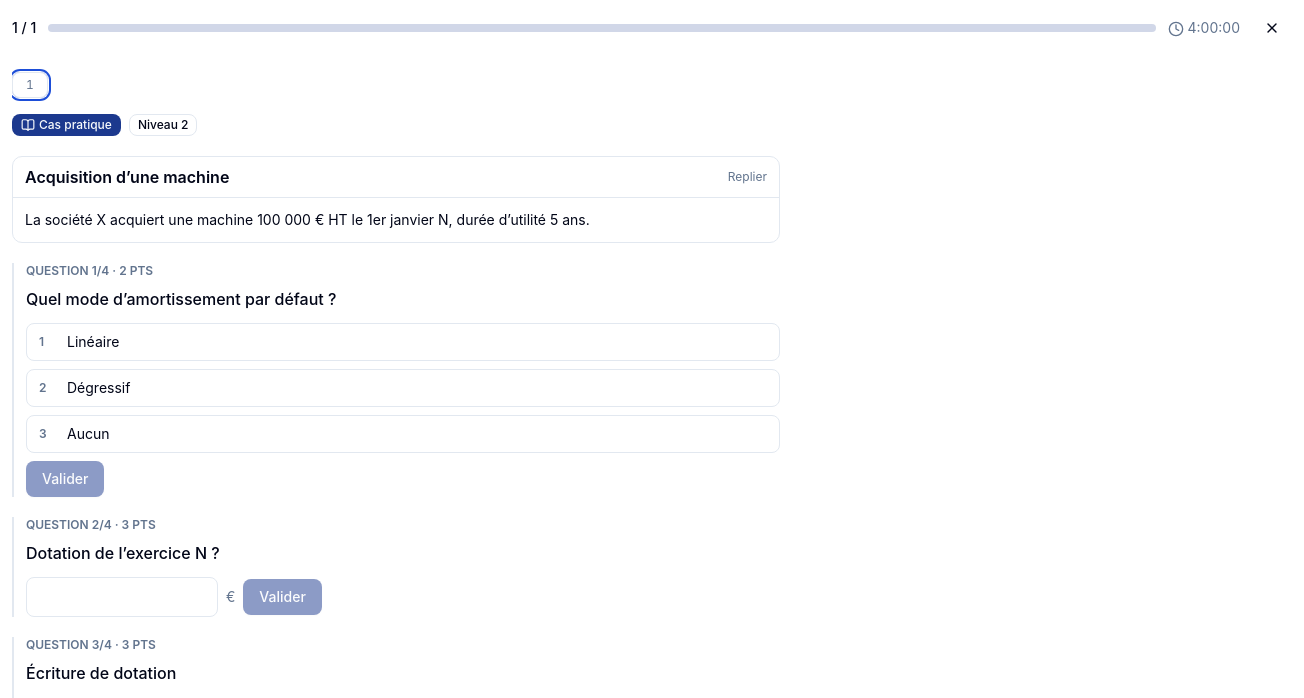
Test case: SessionPage › examen : un cas commencé puis arrêté compte au prorata des questions traitées
expect the text "Question 1/4 · 2 pts" is shown: met, box [26, 263, 153, 278]
Step 1. Click the radio button labelled "1 Linéaire" → (93, 342), box [26, 323, 780, 361]
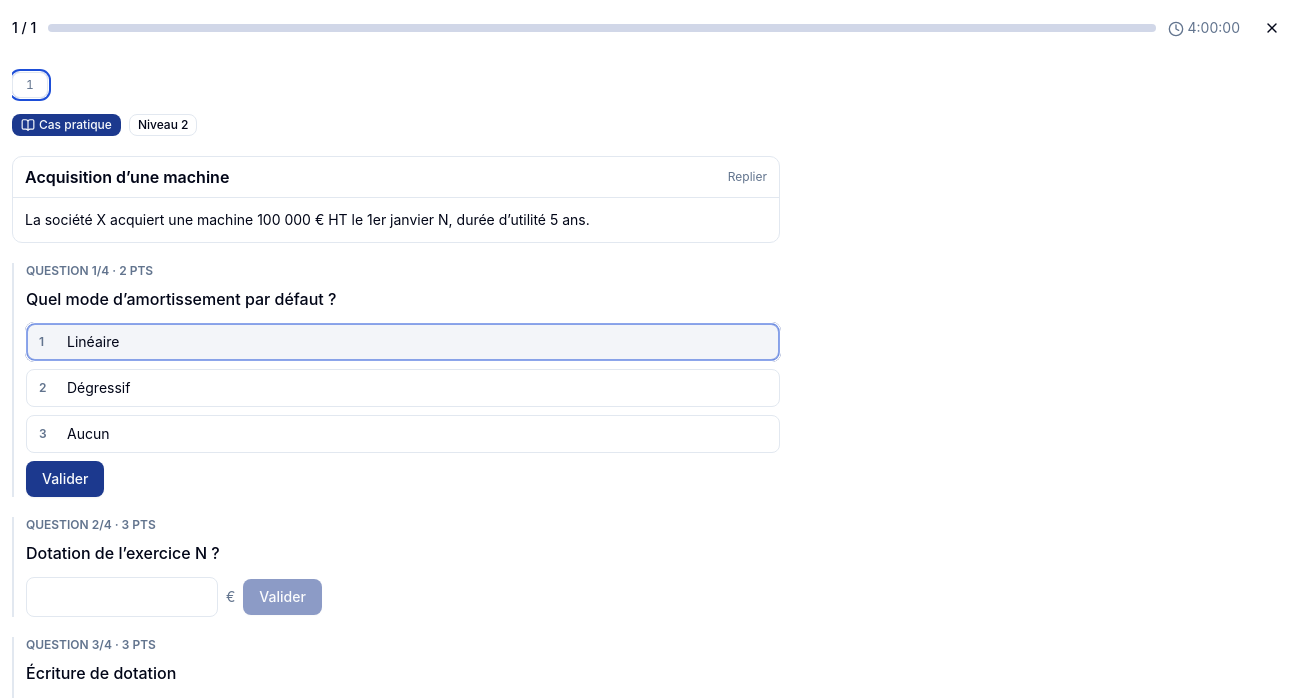
Step 2. Click the button "Valider" below "Quel mode d’amortissement par défaut ?" → (65, 479), box [26, 461, 104, 497]
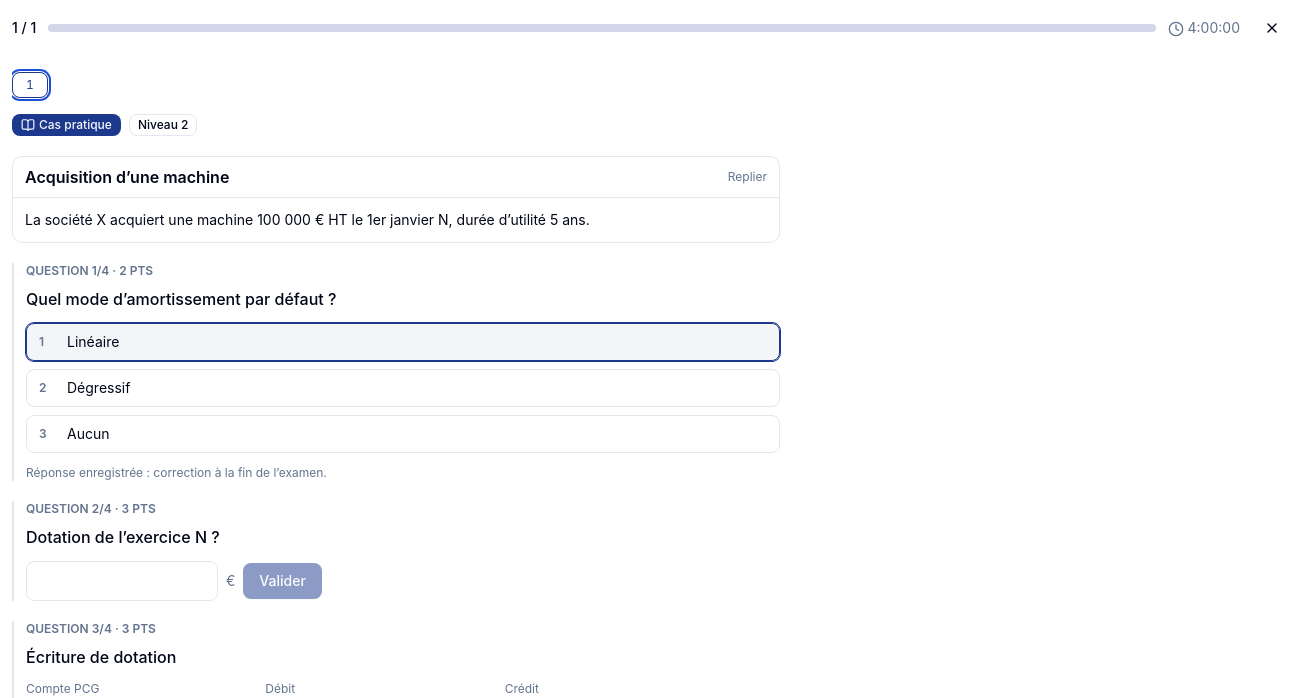
Step 3. Click the button named "Terminer la session" → (1272, 28), box [1252, 8, 1292, 48]
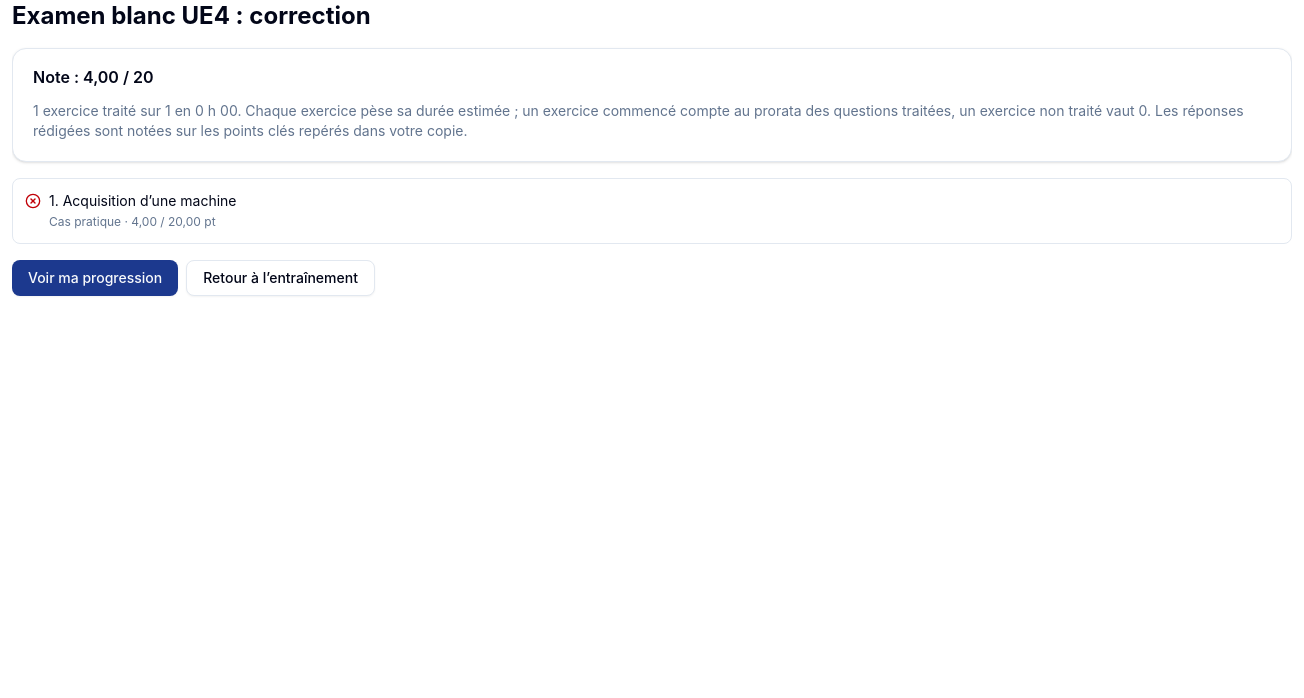
expect the text "1 exercice traité sur 1" is shown: met, box [13, 101, 1291, 141]
